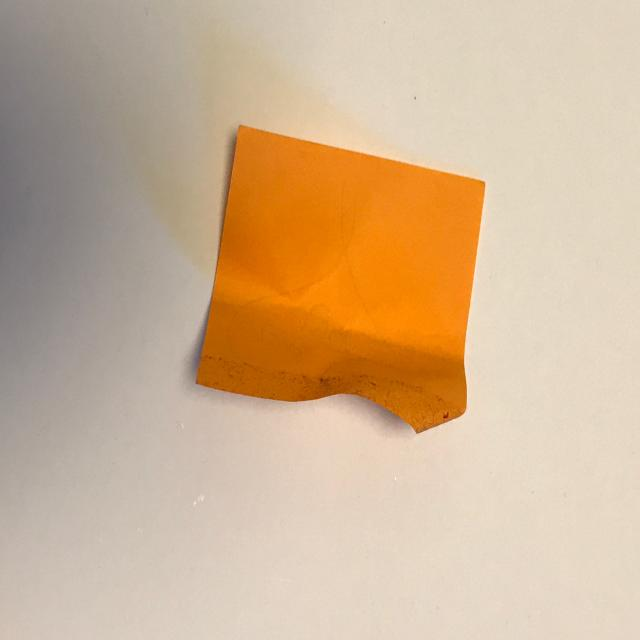paper: (172, 109, 495, 468)
